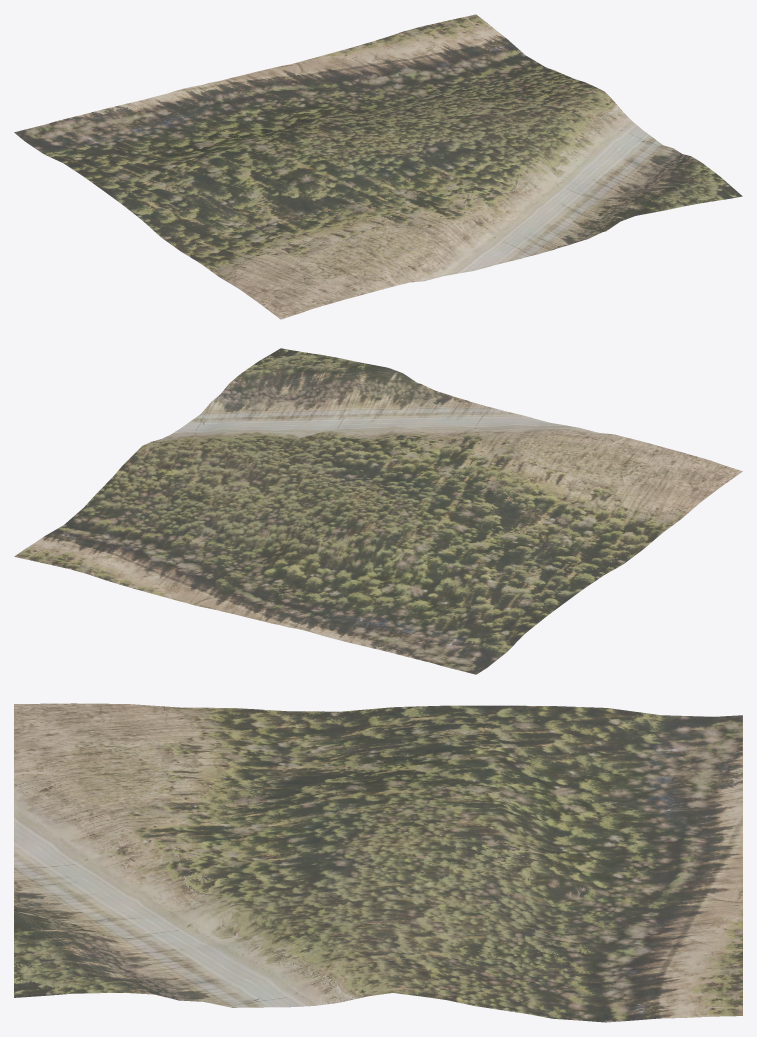
Rendered from CM_Terrain_24492302_6814264.fbx.
The picture shows the model from 3 angles, top to bottom: view 1: azimuth 30°, elevation 25°; view 2: azimuth 150°, elevation 25°; view 3: azimuth 270°, elevation 25°; orthographic projection. The views are drawn at different scales.
Parts seen in each view (by area): view 1: CM_Terrain_24492302_6814264_LOD0; view 2: CM_Terrain_24492302_6814264_LOD0; view 3: CM_Terrain_24492302_6814264_LOD0.
Boxes of the visible parts, left/top/right/bottom form: CM_Terrain_24492302_6814264_LOD0: left=14, top=14, right=742, bottom=319; CM_Terrain_24492302_6814264_LOD0: left=14, top=348, right=742, bottom=674; CM_Terrain_24492302_6814264_LOD0: left=14, top=703, right=742, bottom=1022.
Size of what is drawn, in the model's own units: 205 by 11.26 by 205.
